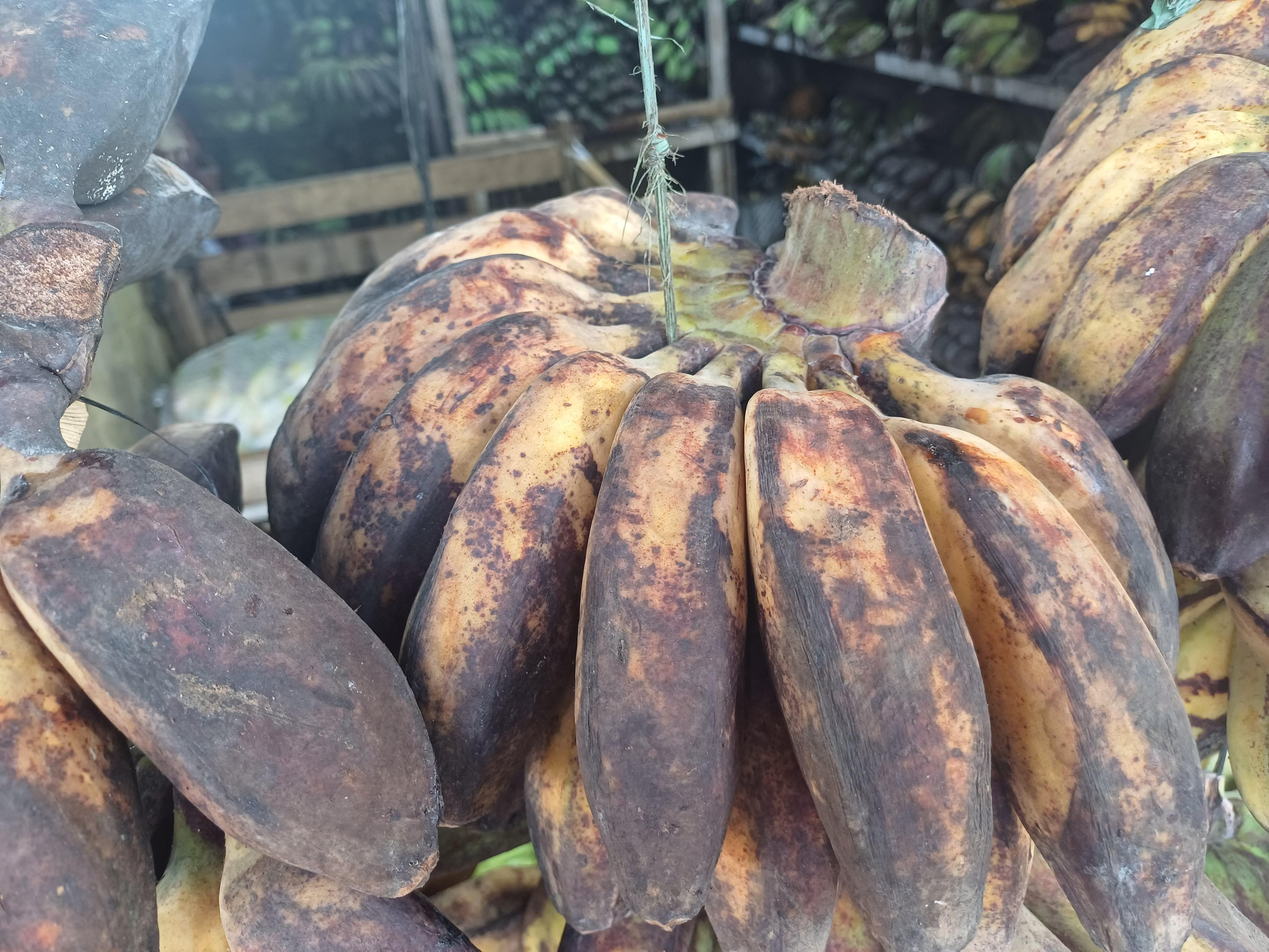overripe: (266, 187, 1207, 952), (0, 450, 438, 950)
ripe: (980, 0, 1269, 578)
